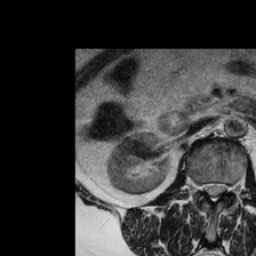CCS_normal: (210, 175, 218, 206)
LFS_stenosis: (226, 176, 234, 199)
LLS_normal: (218, 176, 226, 201)
RFS_normal: (196, 176, 203, 197)
RLS_normal: (203, 176, 210, 199)
